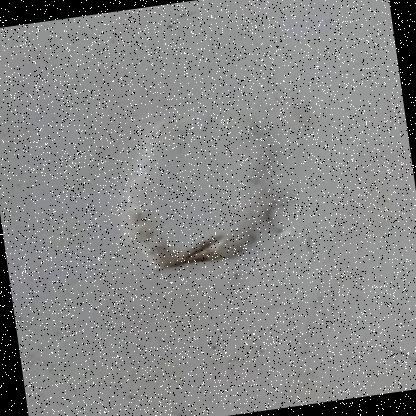Crack: (57, 87, 325, 306)
